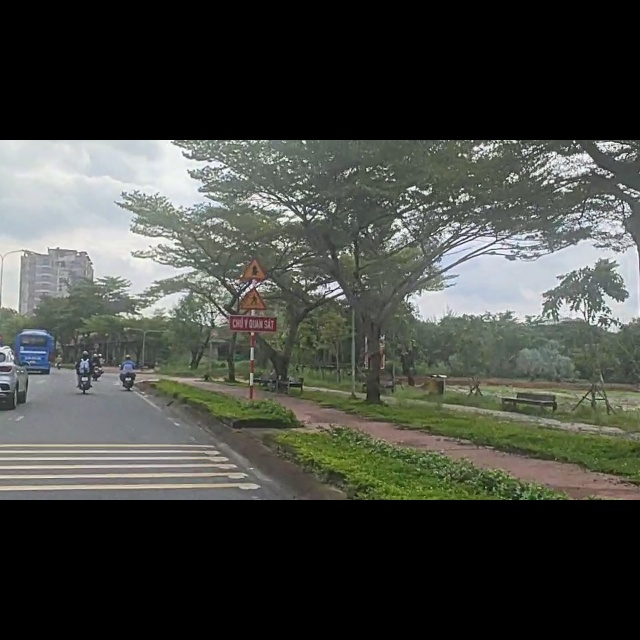bien_nguy_hiem: (239, 257, 271, 306), (239, 206, 270, 250)
